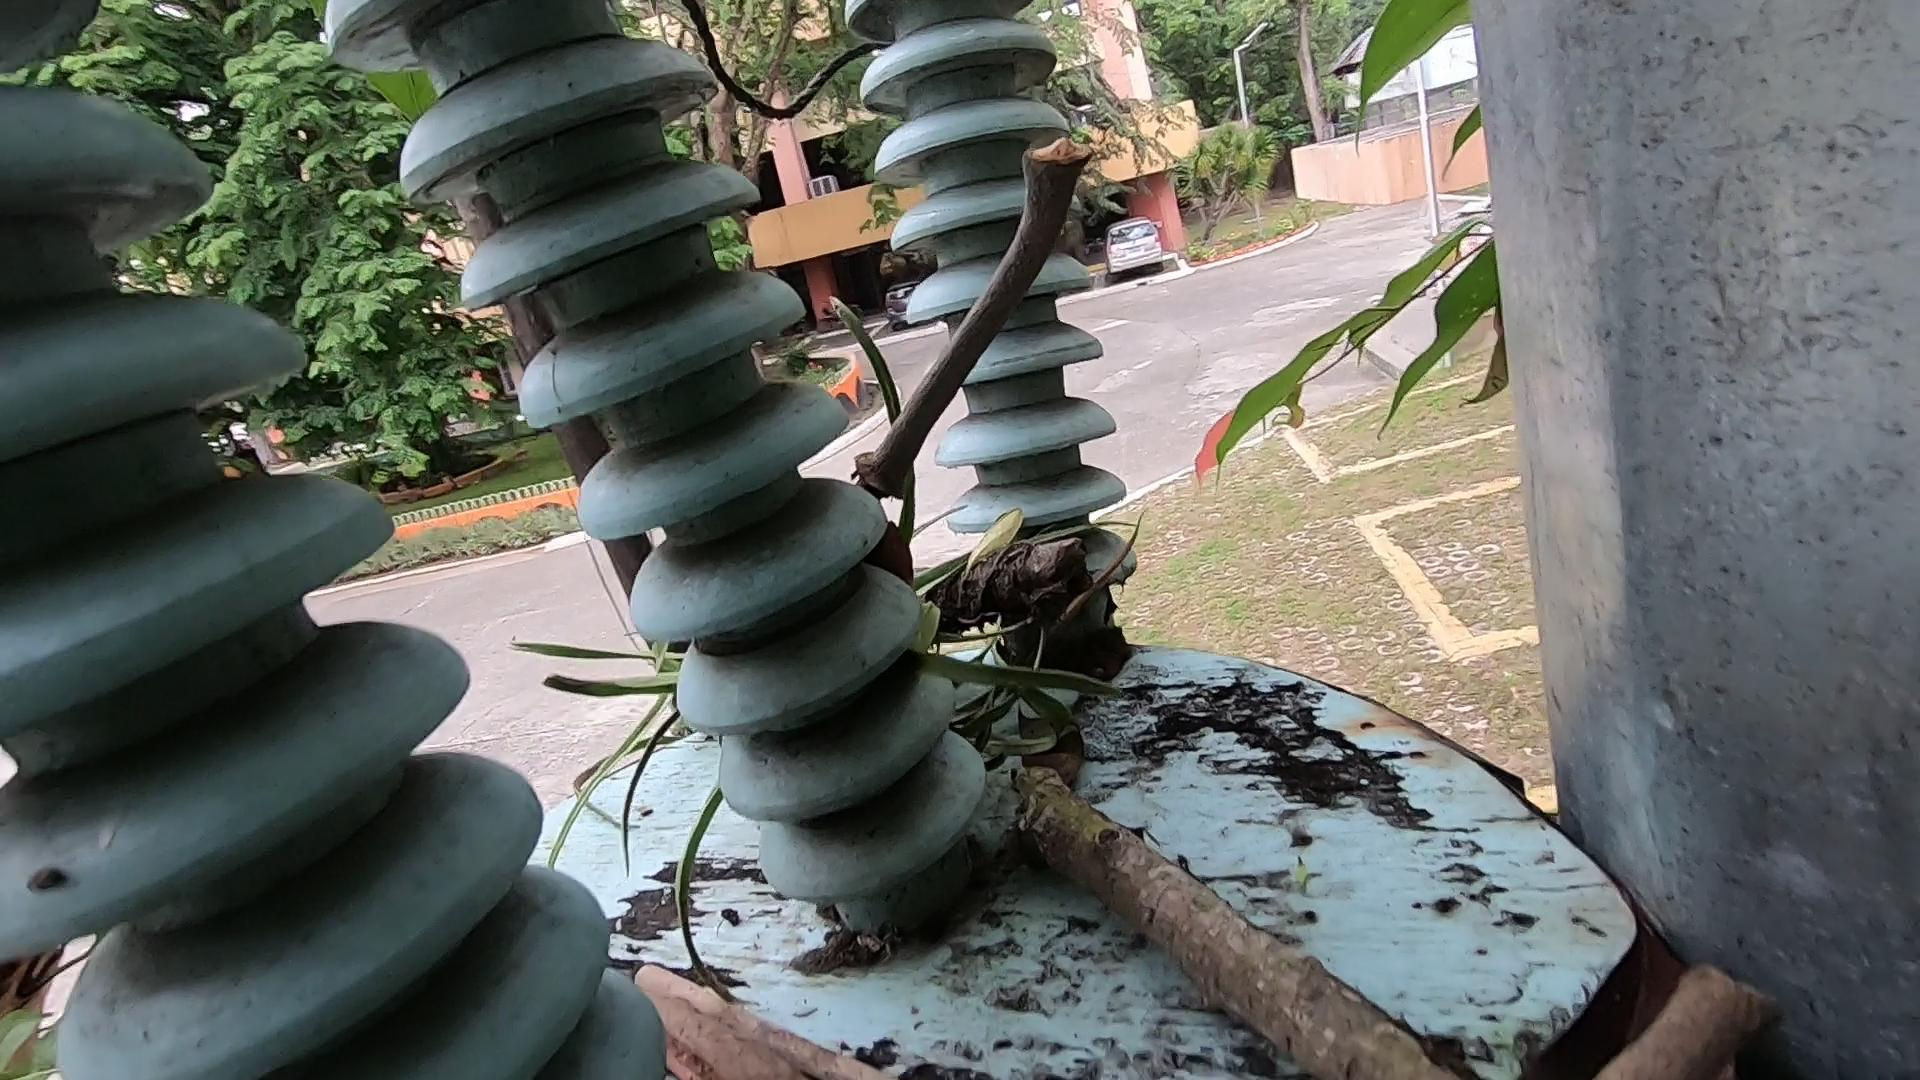branch with leaves: (847, 480, 1493, 1080)
mahogany fruit: (620, 923, 727, 1080)
tree branch: (884, 55, 1110, 571), (1622, 911, 1793, 1080)
